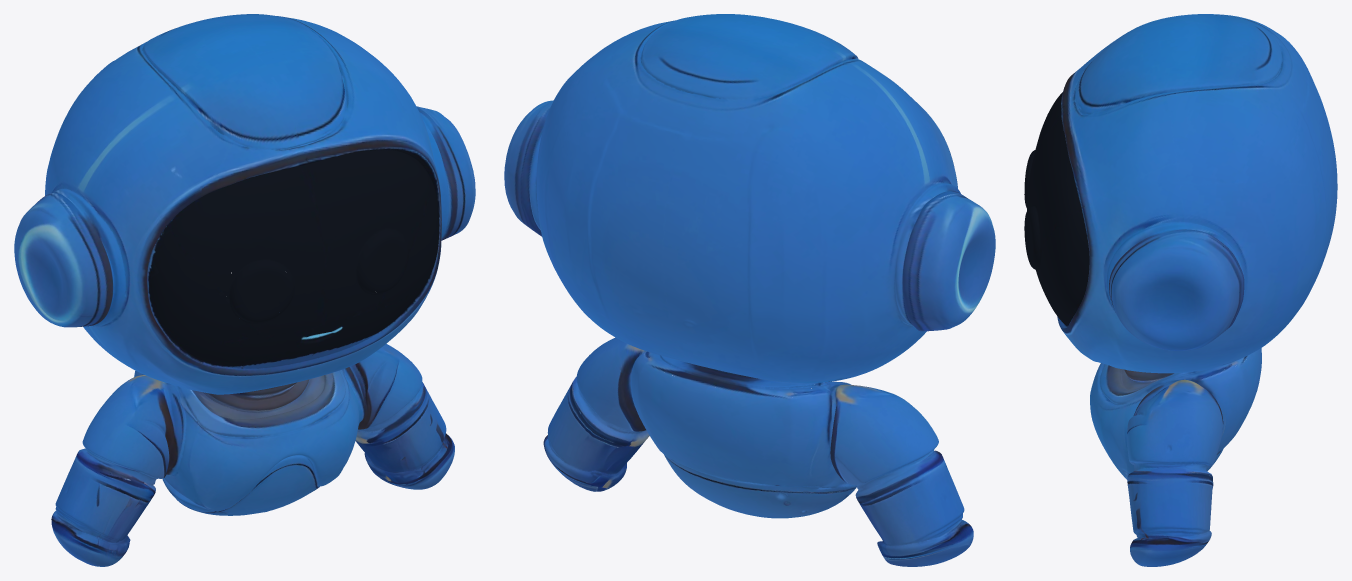
Rendered from zes-ai-robot.glb.
3 renders of one model, left to right at view 1: azimuth 30°, elevation 25°; view 2: azimuth 150°, elevation 25°; view 3: azimuth 270°, elevation 25°, orthographic. The views are drawn at different scales.
Visible parts, largest first — view 1: Head, Body, EyeL, EyeR; view 2: Head, Body; view 3: Head, Body, EyeR.
Boxes of the visible parts, box(x1,y1,x2,y2) form: Head: box(14, 14, 475, 394); Body: box(51, 344, 454, 566); EyeL: box(226, 254, 289, 322); EyeR: box(363, 222, 409, 292); Head: box(504, 14, 995, 398); Body: box(543, 337, 973, 566); Head: box(1024, 14, 1337, 373); Body: box(1090, 348, 1261, 566); EyeR: box(1024, 202, 1041, 269).
Bounding box in the file's own units: 0.9291 × 1 × 0.6245.
Materials: 2 (2 with a texture image).
